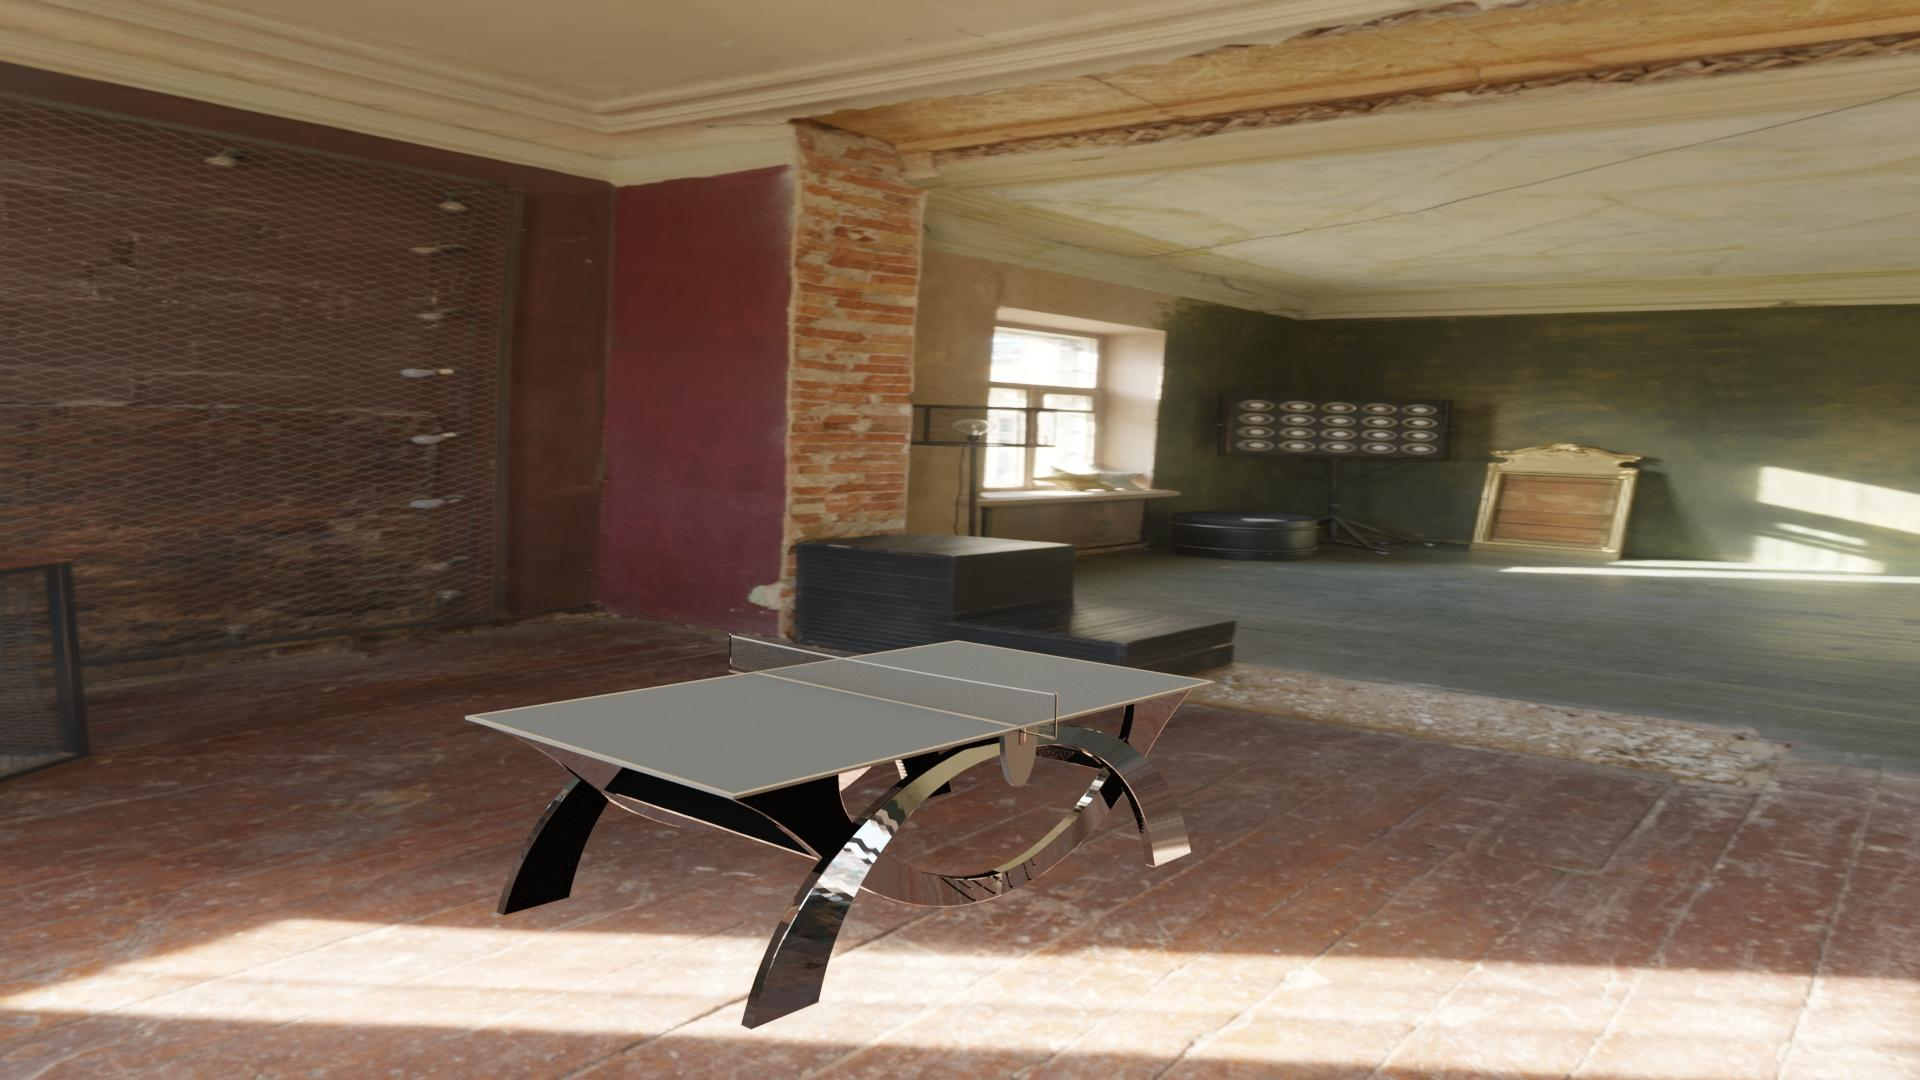table: (473, 641, 1209, 794)
